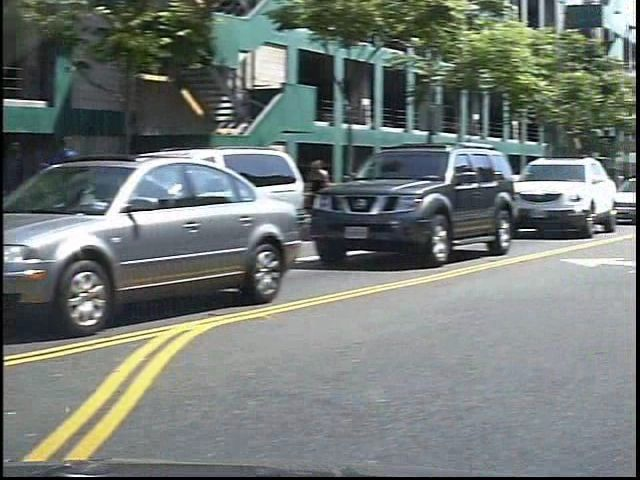person: (54, 132, 105, 261), (319, 155, 348, 231)
